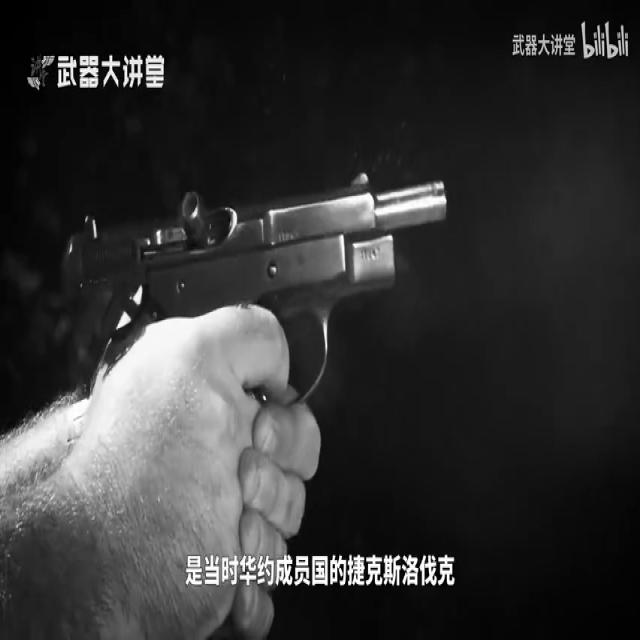Hand-Gun: (55, 165, 442, 418)
